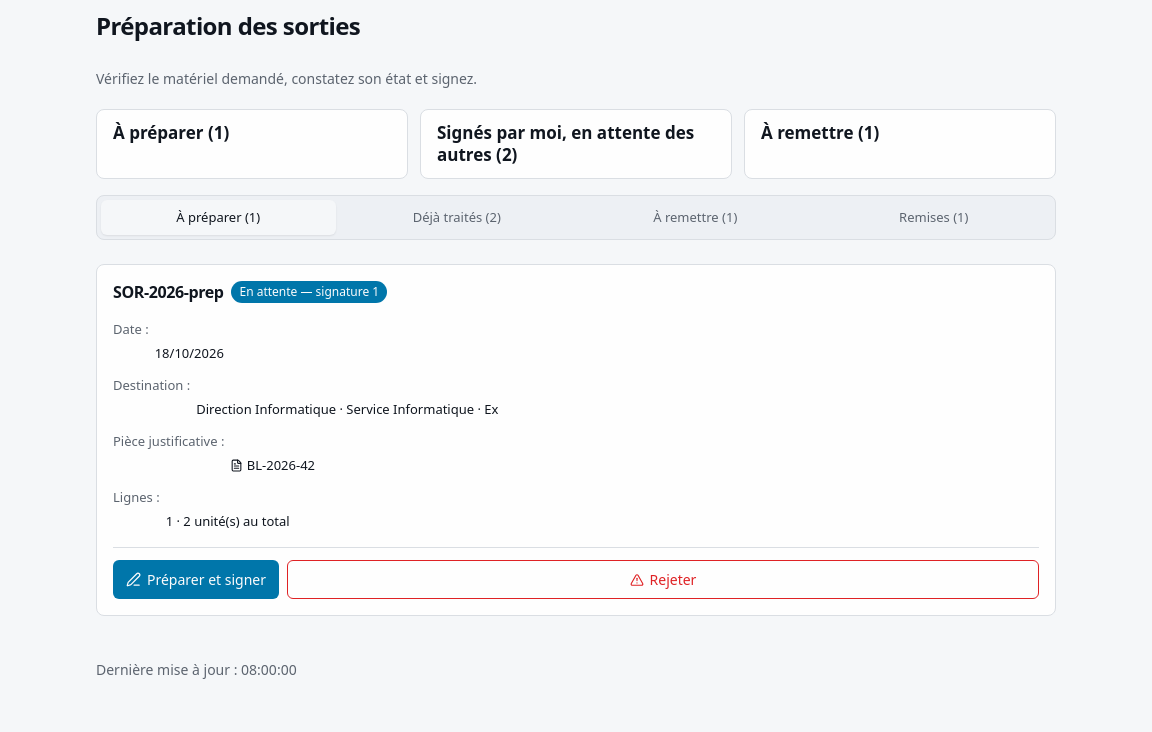
Scenario: (6) espace magasinier — onglets de remise › I1 : « À remettre » ne montre QUE les sorties validées
This screenshot has width=1152, height=732.
Click the tab "À remettre (1)" at point(695, 218), box [578,200,812,236]
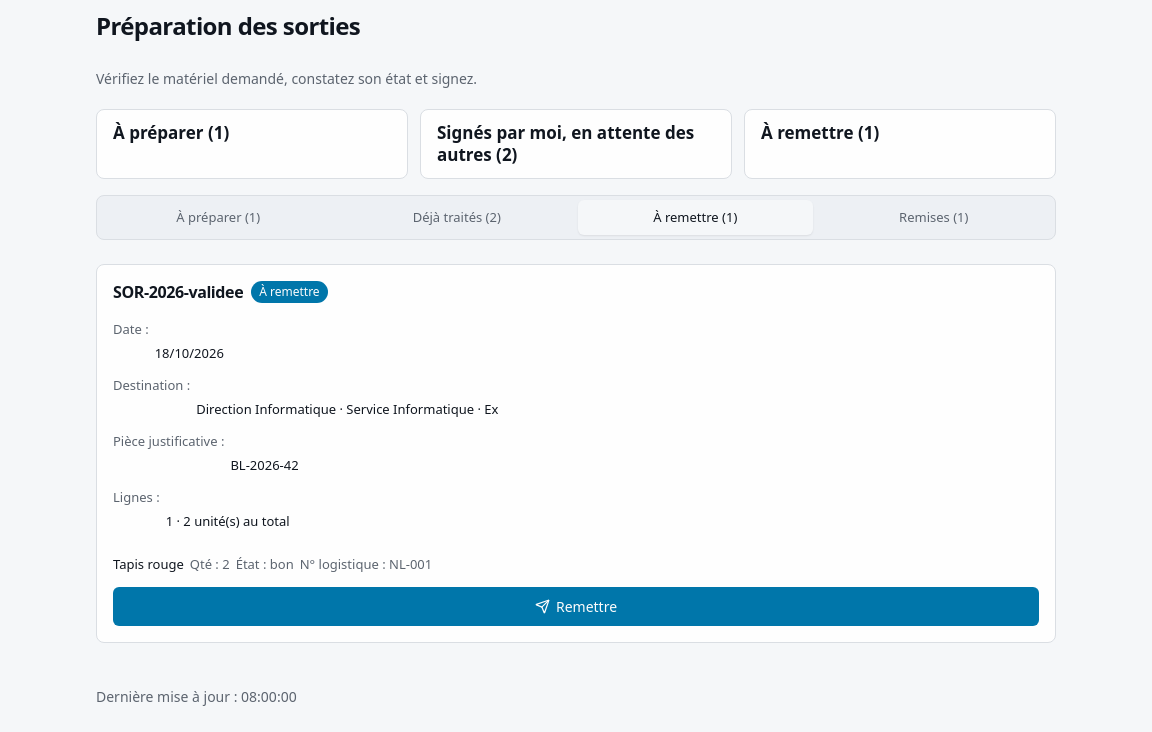
expect the heading "SOR-2026-validee" is shown: met, box [113,282,243,303]
expect the heading "SOR-2026-prep" is gone: met
